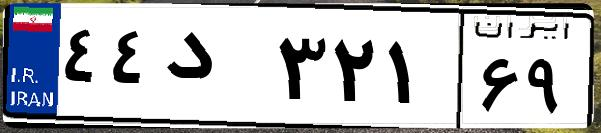1: (385, 28, 445, 110)
2: (330, 28, 385, 110)
3: (270, 28, 330, 110)
4: (57, 26, 110, 100), (110, 28, 158, 98)
6: (475, 38, 525, 113)
9: (525, 38, 570, 115)
د: (158, 20, 270, 120)
